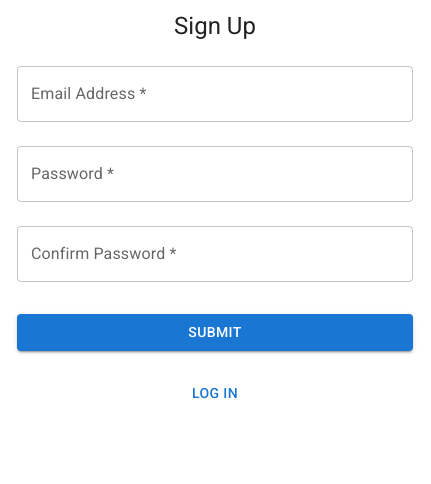
Test case: signup-page › signup page - validate input
# empty inputs
Click the button "Submit" at (215, 332), box [17, 314, 413, 350]
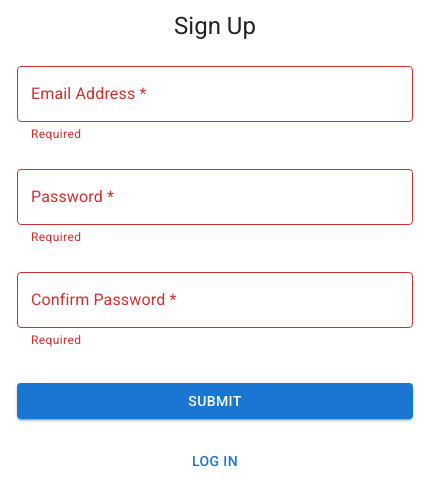
Expected: the text "Required" is shown 3 times, [31, 127, 81, 141]; [31, 230, 81, 244]; [31, 333, 81, 347]
